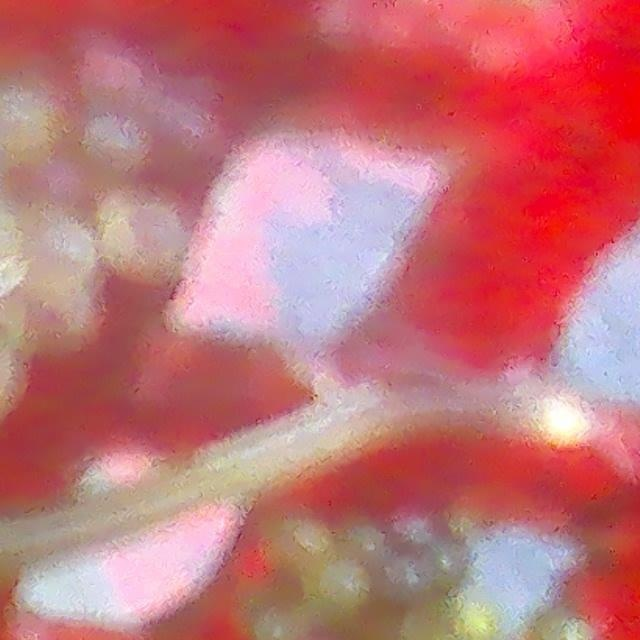SeaGrape: (104, 201, 187, 280), (20, 213, 99, 289)
